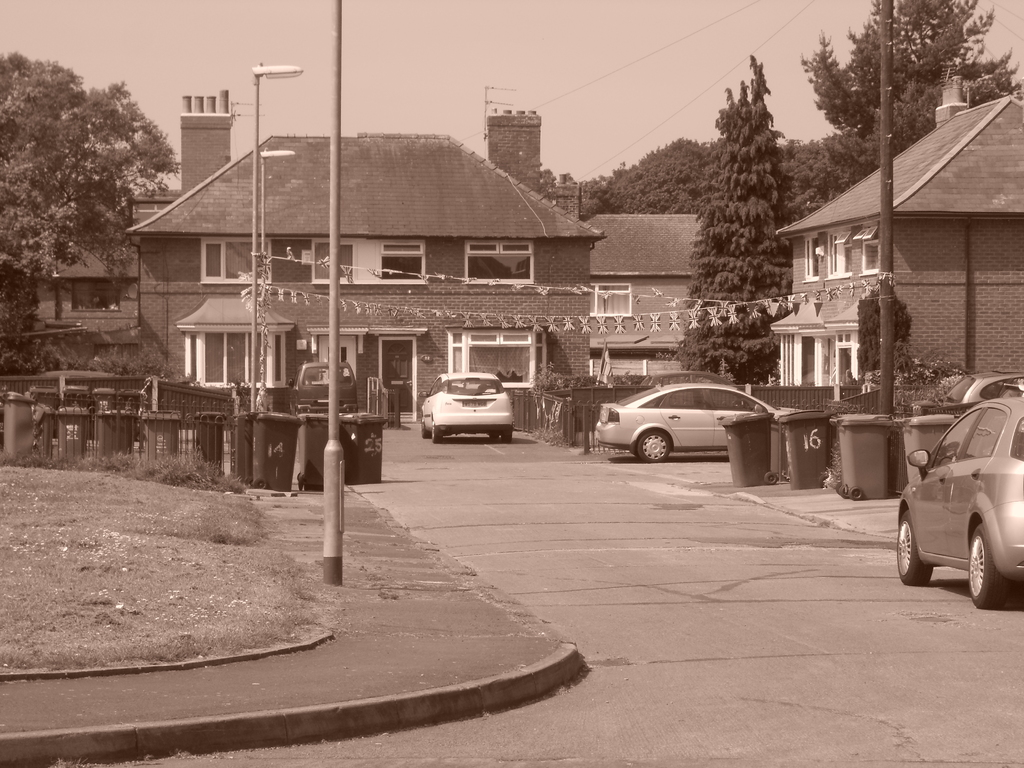Car: (894, 398, 1023, 608), (587, 378, 805, 464), (421, 364, 515, 448), (284, 359, 357, 410), (944, 371, 1023, 414), (638, 369, 737, 387), (999, 379, 1023, 398)
